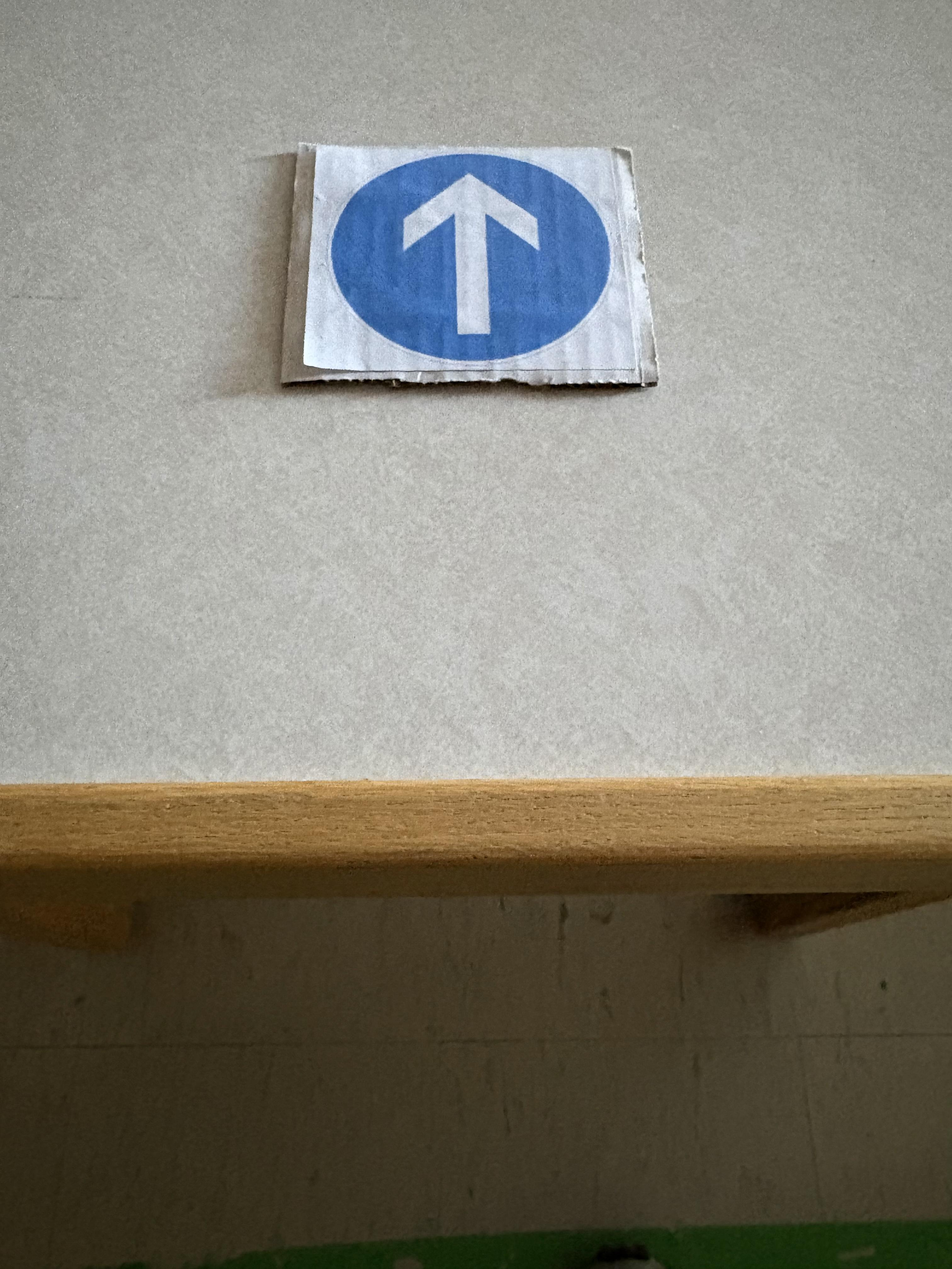Proceed Forward: (276, 136, 664, 399)
